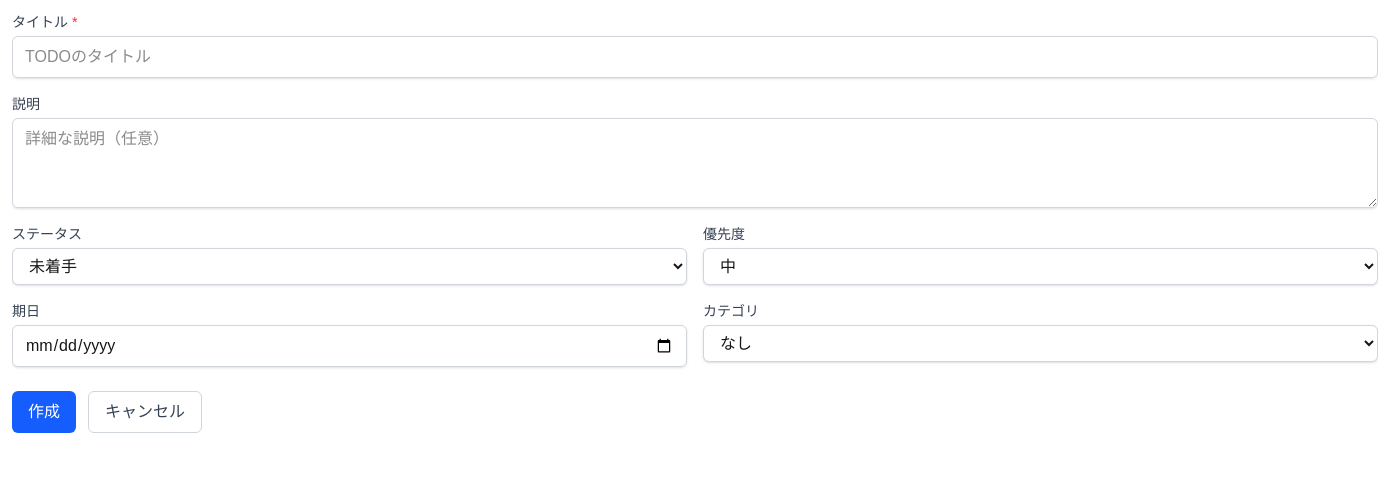
it: TodoForm › タイトル未入力でバリデーションエラーが表示される
This screenshot has width=1390, height=478.
What coordinates should you click on to do the following:
click the button "作成"
I would click on:
 (44, 412)
Its box is top-left (12, 391), bottom-right (76, 433).
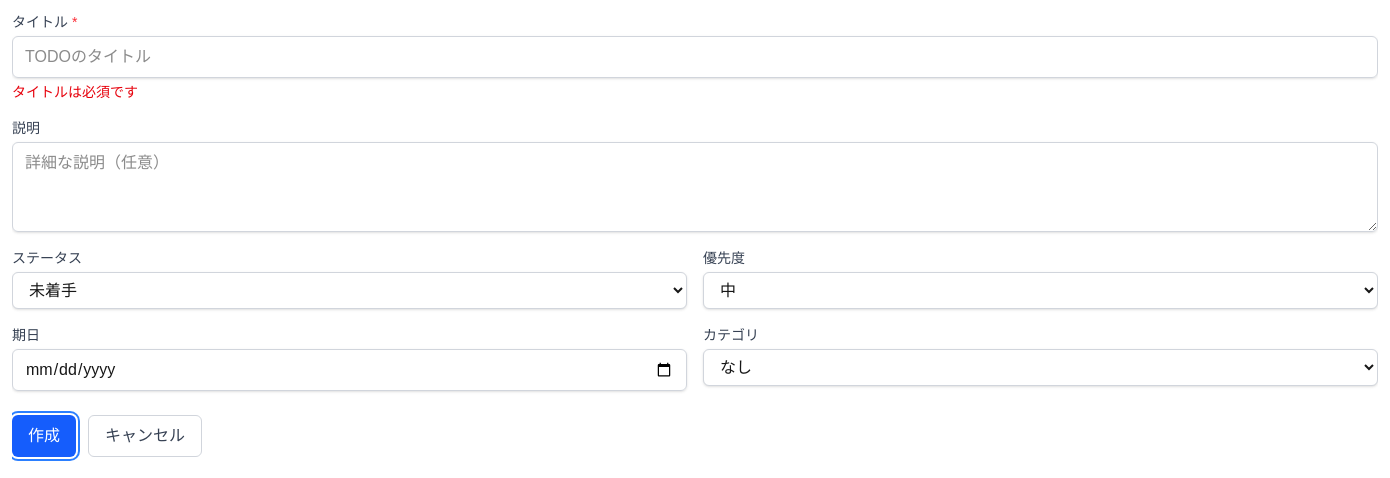
Now the text "タイトルは必須です" is shown, box top-left (12, 84), bottom-right (138, 100)
